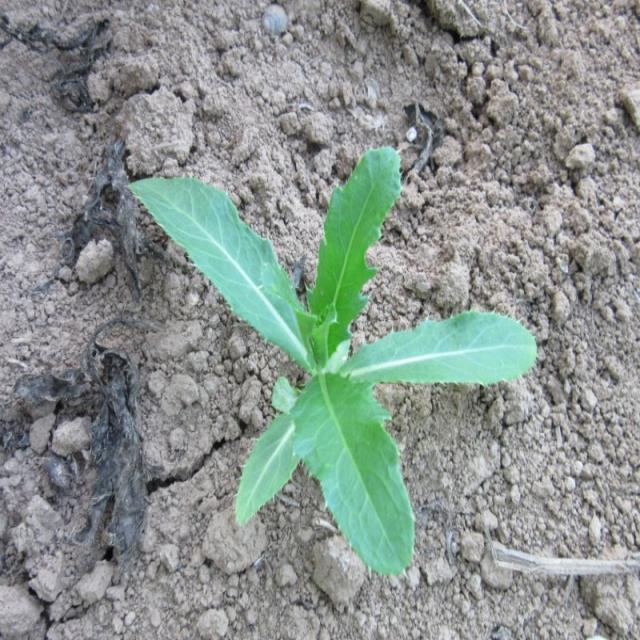cs: (126, 143, 539, 578)
